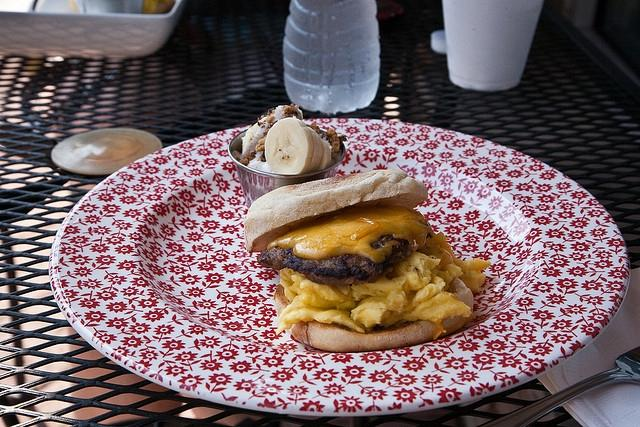banana: (264, 117, 314, 175), (318, 138, 332, 171), (307, 127, 317, 173)
